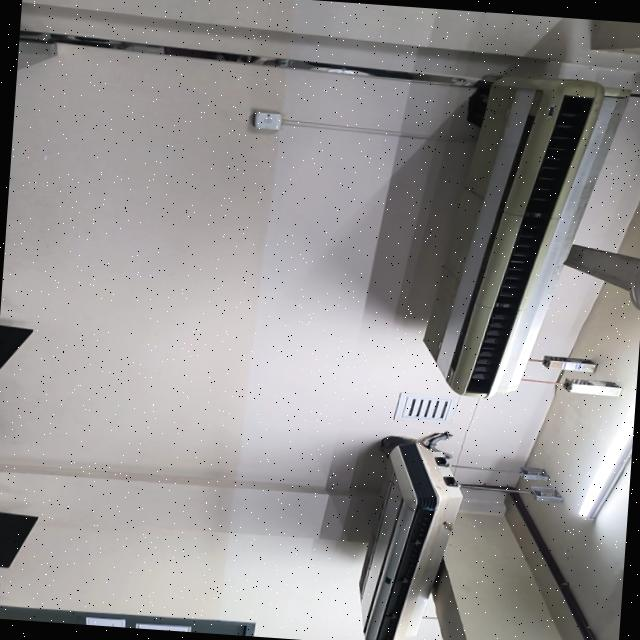Ac: (426, 73, 629, 397), (360, 431, 462, 640)
Light: (579, 402, 635, 519)
Monitor: (0, 511, 37, 566), (0, 324, 33, 367)
